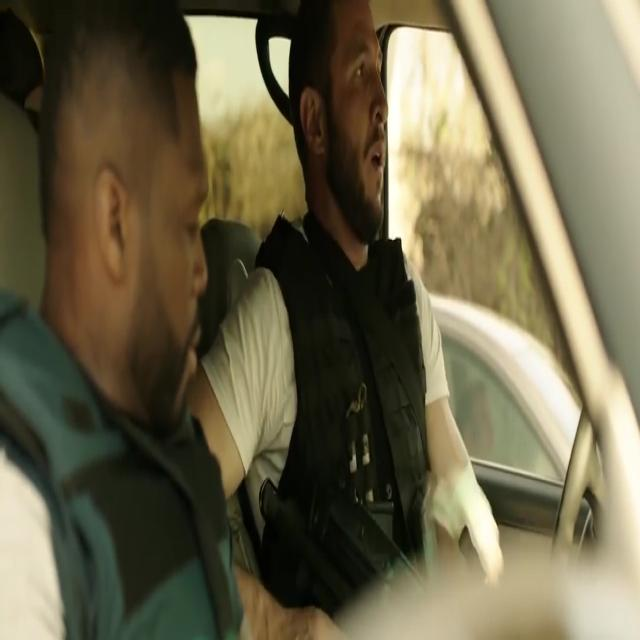Weapon: (263, 373, 471, 640)
